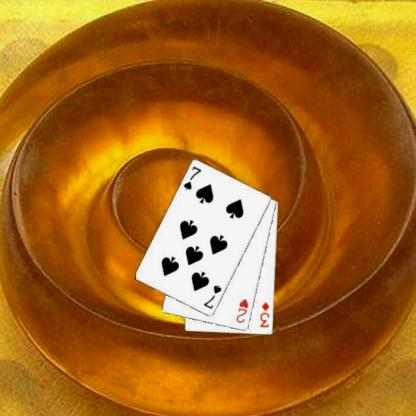2H: (233, 296, 250, 324)
3D: (257, 300, 271, 328)
7S: (201, 283, 223, 311), (181, 164, 203, 191)
